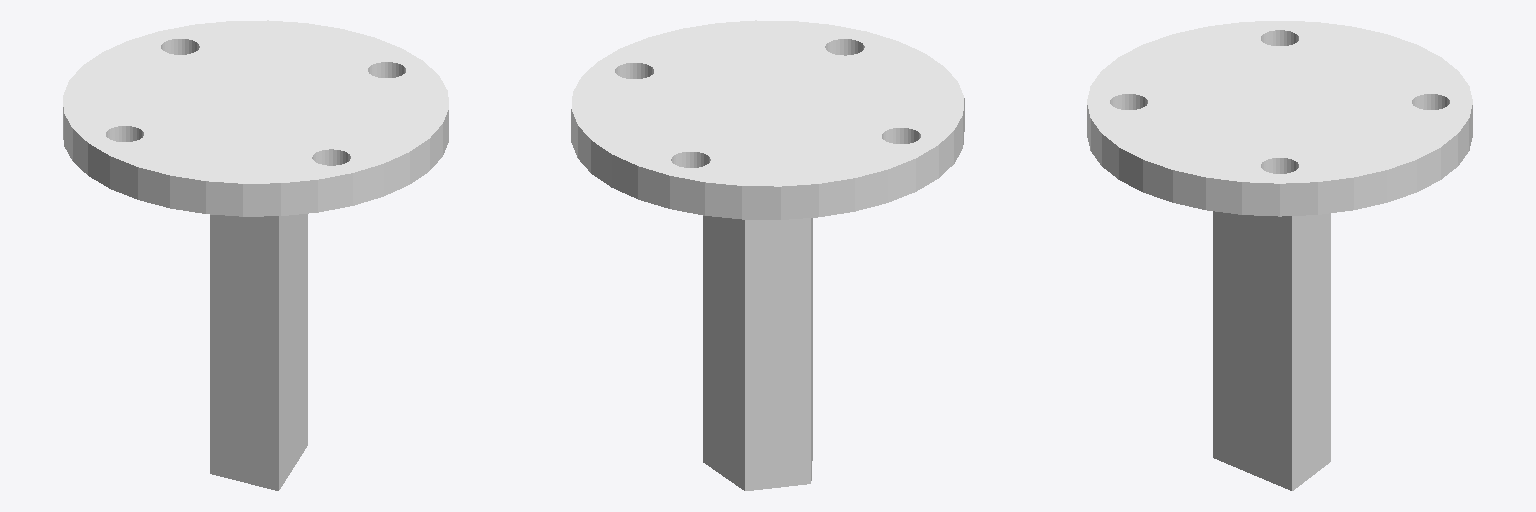
The robot description file, URDF, robot "panda":
<?xml version="1.0" ?>
<robot name="panda" xmlns:xacro="http://www.ros.org/wiki/xacro">
  <link name="panda_link_base">
    <inertial>
      <origin rpy="0 0 0" xyz="0 0 0.05"/>
       <mass value="2.9"/>
       <inertia ixx="0.1" ixy="0" ixz="0" iyy="0.1" iyz="0" izz="0.1"/>
    </inertial>
    <visual>
      <geometry>
        <mesh filename="franka_panda/meshes/collision/link0.obj"/>
      </geometry>
      <material name="panda_white">
    		<color rgba="1. 1. 1. 1."/>
  		</material>
    </visual>
    <collision>
      <geometry>
        <mesh filename="franka_panda/meshes/collision/link0.obj"/>
      </geometry>
      <material name="panda_white"/>
    </collision>
  </link>
  <link name="panda_link_0">
  	<inertial>
      <origin rpy="0 0 0" xyz="0 -0.04 -0.05"/>
       <mass value="2.7"/>
       <inertia ixx="0.1" ixy="0" ixz="0" iyy="0.1" iyz="0" izz="0.1"/>
    </inertial>
    <visual>
      <geometry>
        <mesh filename="franka_panda/meshes/visual/link1.obj"/>
      </geometry>
      <material name="panda_white"/>
    </visual>
    <collision>
      <geometry>
        <mesh filename="franka_panda/meshes/collision/link1.obj"/>
      </geometry>
      <material name="panda_white"/>
    </collision>
  </link>
  <joint name="panda_joint_0" type="revolute">
    <safety_controller k_position="100.0" k_velocity="40.0" soft_lower_limit="-2.8973" soft_upper_limit="2.8973"/>
    <origin rpy="0 0 0" xyz="0 0 0.333"/>
    <parent link="panda_link_base"/>
    <child link="panda_link_0"/>
    <axis xyz="0 0 1"/>
    <limit effort="87" lower="-2.9671" upper="2.9671" velocity="2.1750"/>
  </joint>
  <link name="panda_link_1">
  	<inertial>
      <origin rpy="0 0 0" xyz="0 -0.04 0.06"/>
       <mass value="2.73"/>
       <inertia ixx="0.1" ixy="0" ixz="0" iyy="0.1" iyz="0" izz="0.1"/>
    </inertial>
    <visual>
      <geometry>
        <mesh filename="franka_panda/meshes/visual/link2.obj"/>
      </geometry>
      <material name="panda_white"/>
    </visual>
    <collision>
      <geometry>
        <mesh filename="franka_panda/meshes/collision/link2.obj"/>
      </geometry>
      <material name="panda_white"/>
    </collision>
  </link>
  <joint name="panda_joint_1" type="revolute">
    <safety_controller k_position="100.0" k_velocity="40.0" soft_lower_limit="-1.7628" soft_upper_limit="1.7628"/>
    <origin rpy="-1.57079632679 0 0" xyz="0 0 0"/>
    <parent link="panda_link_0"/>
    <child link="panda_link_1"/>
    <axis xyz="0 0 1"/>
    <limit effort="87" lower="-1.8326" upper="1.8326" velocity="2.1750"/>
  </joint>
  <link name="panda_link_2">
	  <inertial>
      <origin rpy="0 0 0" xyz="0.01 0.01 -0.05"/>
       <mass value="2.04"/>
       <inertia ixx="0.1" ixy="0" ixz="0" iyy="0.1" iyz="0" izz="0.1"/>
    </inertial>
    <visual>
      <geometry>
        <mesh filename="franka_panda/meshes/visual/link3.obj"/>
      </geometry>
      <material name="panda_red">
    		<color rgba="1. 1. 1. 1."/>
  		</material>
    </visual>
    <collision>
      <geometry>
        <mesh filename="franka_panda/meshes/collision/link3.obj"/>
      </geometry>
    </collision>
  </link>
  <joint name="panda_joint_2" type="revolute">
    <safety_controller k_position="100.0" k_velocity="40.0" soft_lower_limit="-2.8973" soft_upper_limit="2.8973"/>
    <origin rpy="1.57079632679 0 0" xyz="0 -0.316 0"/>
    <parent link="panda_link_1"/>
    <child link="panda_link_2"/>
    <axis xyz="0 0 1"/>
    <limit effort="87" lower="-2.9671" upper="2.9671" velocity="2.1750"/>
  </joint>
  <link name="panda_link_3">
  	<inertial>
      <origin rpy="0 0 0" xyz="-0.03 0.03 0.02"/>
       <mass value="2.08"/>
       <inertia ixx="0.1" ixy="0" ixz="0" iyy="0.1" iyz="0" izz="0.1"/>
    </inertial>
    <visual>
      <geometry>
        <mesh filename="franka_panda/meshes/visual/link4.obj"/>
      </geometry>
      <material name="panda_white"/>
    </visual>
    <collision>
      <geometry>
        <mesh filename="franka_panda/meshes/collision/link4.obj"/>
      </geometry>
      <material name="panda_white"/>
    </collision>
  </link>
  <joint name="panda_joint_3" type="revolute">
    <safety_controller k_position="100.0" k_velocity="40.0" soft_lower_limit="-3.0718" soft_upper_limit="-0.0698"/>
    <origin rpy="1.57079632679 0 0" xyz="0.0825 0 0"/>
    <parent link="panda_link_2"/>
    <child link="panda_link_3"/>
    <axis xyz="0 0 1"/>
    <limit effort="87" lower="-3.1416" upper="0.0" velocity="2.1750"/>
  </joint>
  <link name="panda_link_4">
  	<inertial>
      <origin rpy="0 0 0" xyz="0 0.04 -0.12"/>
       <mass value="3"/>
       <inertia ixx="0.1" ixy="0" ixz="0" iyy="0.1" iyz="0" izz="0.1"/>
    </inertial>
    <visual>
      <geometry>
        <mesh filename="franka_panda/meshes/visual/link5.obj"/>
      </geometry>
      <material name="panda_white"/>
    </visual>
    <collision>
      <geometry>
        <mesh filename="franka_panda/meshes/collision/link5.obj"/>
      </geometry>
      <material name="panda_white"/>
    </collision>
  </link>
  <joint name="panda_joint_4" type="revolute">
    <safety_controller k_position="100.0" k_velocity="40.0" soft_lower_limit="-2.8973" soft_upper_limit="2.8973"/>
    <origin rpy="-1.57079632679 0 0" xyz="-0.0825 0.384 0"/>
    <parent link="panda_link_3"/>
    <child link="panda_link_4"/>
    <axis xyz="0 0 1"/>
    <limit effort="12" lower="-2.9671" upper="2.9671" velocity="2.6100"/>
  </joint>
  <link name="panda_link_5">
  	<inertial>
      <origin rpy="0 0 0" xyz="0.04 0 0"/>
       <mass value="1.3"/>
       <inertia ixx="0.1" ixy="0" ixz="0" iyy="0.1" iyz="0" izz="0.1"/>
    </inertial>
    <visual>
      <geometry>
        <mesh filename="franka_panda/meshes/visual/link6.obj"/>
      </geometry>
      <material name="panda_white"/>
    </visual>
    <collision>
      <geometry>
        <mesh filename="franka_panda/meshes/collision/link6.obj"/>
      </geometry>
      <material name="panda_white"/>
    </collision>
  </link>
  <joint name="panda_joint_5" type="revolute">
    <safety_controller k_position="100.0" k_velocity="40.0" soft_lower_limit="-0.0175" soft_upper_limit="3.7525"/>
    <origin rpy="1.57079632679 0 0" xyz="0 0 0"/>
    <parent link="panda_link_4"/>
    <child link="panda_link_5"/>
    <axis xyz="0 0 1"/>
    <limit effort="12" lower="-0.0873" upper="3.8223" velocity="2.6100"/>
  </joint>
  <link name="panda_link_6">
  	<inertial>
      <origin rpy="0 0 0" xyz="0 0 0.08"/>
       <mass value=".2"/>
       <inertia ixx="0.1" ixy="0" ixz="0" iyy="0.1" iyz="0" izz="0.1"/>
    </inertial>
    <visual>
      <geometry>
        <mesh filename="franka_panda/meshes/collision/link7.obj"/>
      </geometry>
      <material name="panda_white"/>
    </visual>
    <collision>
      <geometry>
        <mesh filename="franka_panda/meshes/collision/link7.obj"/>
      </geometry>
      <material name="panda_white"/>
    </collision>
  </link>
  <joint name="panda_joint_6" type="revolute">
    <safety_controller k_position="100.0" k_velocity="40.0" soft_lower_limit="-2.8973" soft_upper_limit="2.8973"/>
    <origin rpy="1.57079632679 0 0" xyz="0.088 0 0"/>
    <parent link="panda_link_5"/>
    <child link="panda_link_6"/>
    <axis xyz="0 0 1"/>
    <limit effort="12" lower="-2.9671" upper="2.9671" velocity="2.6100"/>
  </joint>

  <link name="peg_link">
    <inertial>
      <origin rpy="0 0 0" xyz="0 0 0"/>
       <mass value=".2"/>
       <inertia ixx="0.1" ixy="0" ixz="0" iyy="0.1" iyz="0" izz="0.1"/>
    </inertial>
    <visual>
      <geometry>
        <!-- <cylinder length="0.001" radius="0.001"/> -->
        <mesh filename="peg.obj" scale="1 1 1"/>
      </geometry>
      <material name="panda_white"/>
    </visual>
    <collision>
      <geometry>
        <!-- <cylinder length="0.001" radius="0.001"/> -->
        <mesh filename="peg.obj" scale="1 1 1"/>
      </geometry>
      <material name="panda_white"/>
    </collision>
  </link>

  <joint name="panda_peg_joint" type="fixed">
    <!-- <origin rpy="0 0 -0.785398" xyz="0 0 0.105"/> -->
    <origin rpy="0 0 2.35619432679" xyz="0 0 0.105"/>
    <parent link="panda_link_6"/>
    <child link="peg_link"/>
    <axis xyz="0 0 0"/>
  </joint>

  <link name="camera_eye_link">
  <inertial>
      <origin rpy="0 0 0" xyz="0 0 0"/>
       <mass value="0.0"/>
       <inertia ixx="0.1" ixy="0" ixz="0" iyy="0.1" iyz="0" izz="0.1"/>
    </inertial>
   </link>

 <joint name="peg_camera_joint" type="fixed">
    <parent link="peg_link"/>
    <child link="camera_eye_link"/>
    <origin rpy="3.4382986 0 0" xyz="-0.032465 0.11689 -0.018024"/>
 </joint>

  <link name="end_effector_link">
  <inertial>
      <origin rpy="0 0 0" xyz="0 0 0"/>
       <mass value="0.0"/>
       <inertia ixx="0.1" ixy="0" ixz="0" iyy="0.1" iyz="0" izz="0.1"/>
    </inertial>
   </link>

 <joint name="peg_end_effector_joint" type="fixed">
    <parent link="peg_link"/>
    <child link="end_effector_link"/>
    <origin rpy="0 0 0" xyz="0 0 0.066"/>
 </joint>

</robot>

--- Render facts (derived) ---
Views: 3 orthographic renders of the robot side by side, from view 1: azimuth 30°, elevation 25°; view 2: azimuth 150°, elevation 25°; view 3: azimuth 270°, elevation 25°.
Model panda with 11 links and 10 joints (7 revolute, 3 fixed), rooted at panda_link_base, posed all joints at 0.
Visible links, largest first — view 1: peg_link; view 2: peg_link; view 3: peg_link.
Boxes of the visible links, x1,y1,x2,y2 form: peg_link: [63, 20, 448, 490]; peg_link: [571, 20, 964, 490]; peg_link: [1087, 21, 1472, 490].
Bounding box of the posed robot: 0.064 × 0.064 × 0.066 m (x, y, z).
1 mesh visuals loaded from 9 distinct referenced files (1 OBJ); not drawn: 8 (reference not matched to a file when rendering).